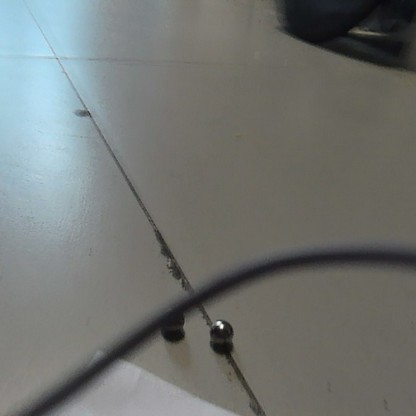ironball: (201, 314, 238, 347), (161, 312, 187, 337)
